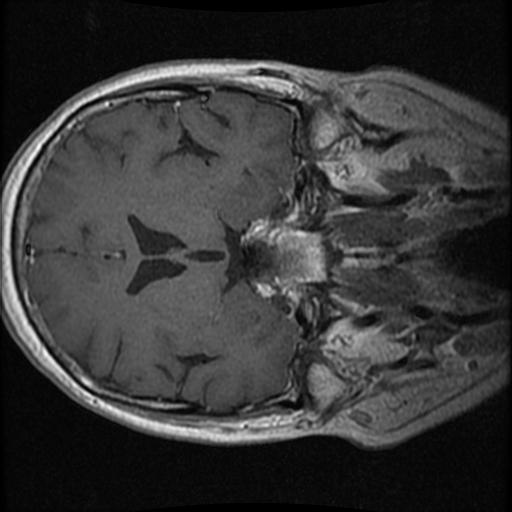pituitary tumour: (239, 219, 272, 246)
